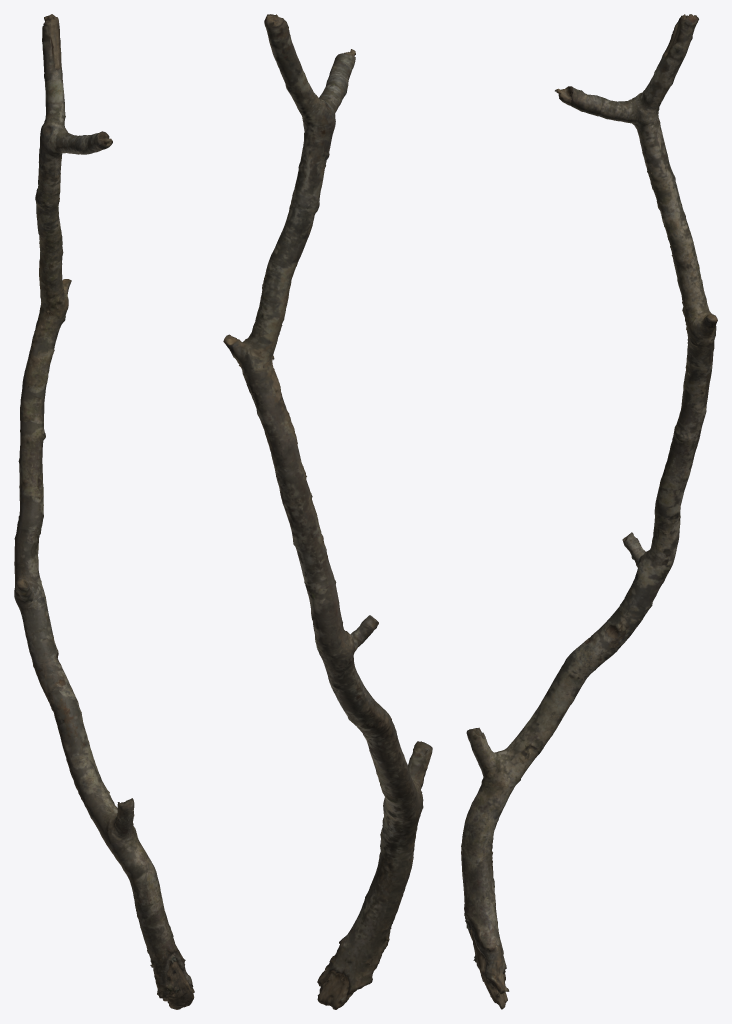
Rendered from stick.glb.
3 views of the same model, side by side, from view 1: azimuth 30°, elevation 25°; view 2: azimuth 150°, elevation 25°; view 3: azimuth 270°, elevation 25° (orthographic). The views are drawn at different scales.
Parts seen in each view (by area): view 1: Object_32; view 2: Object_32; view 3: Object_32.
Part boxes in pixels (<box>): Object_32: <box>14,14,194,1009</box>; Object_32: <box>223,14,432,1009</box>; Object_32: <box>461,14,717,1009</box>.
Size of the model in its own units: 0.3149 by 2.46 by 0.5897.
Materials: 1 (1 with a texture image).
